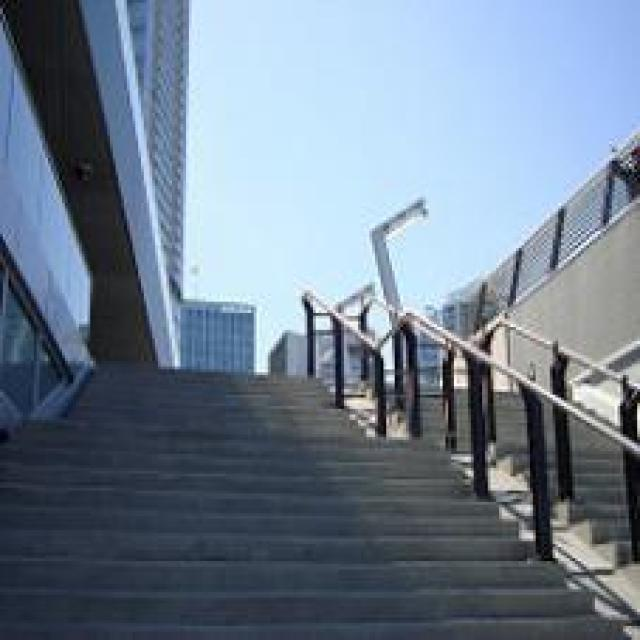upstair: (21, 405, 562, 636)
